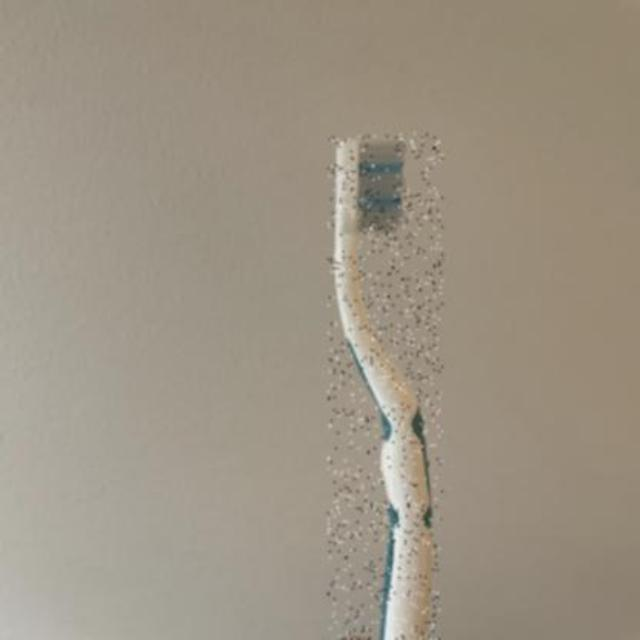toothbrush: (328, 132, 442, 640)
